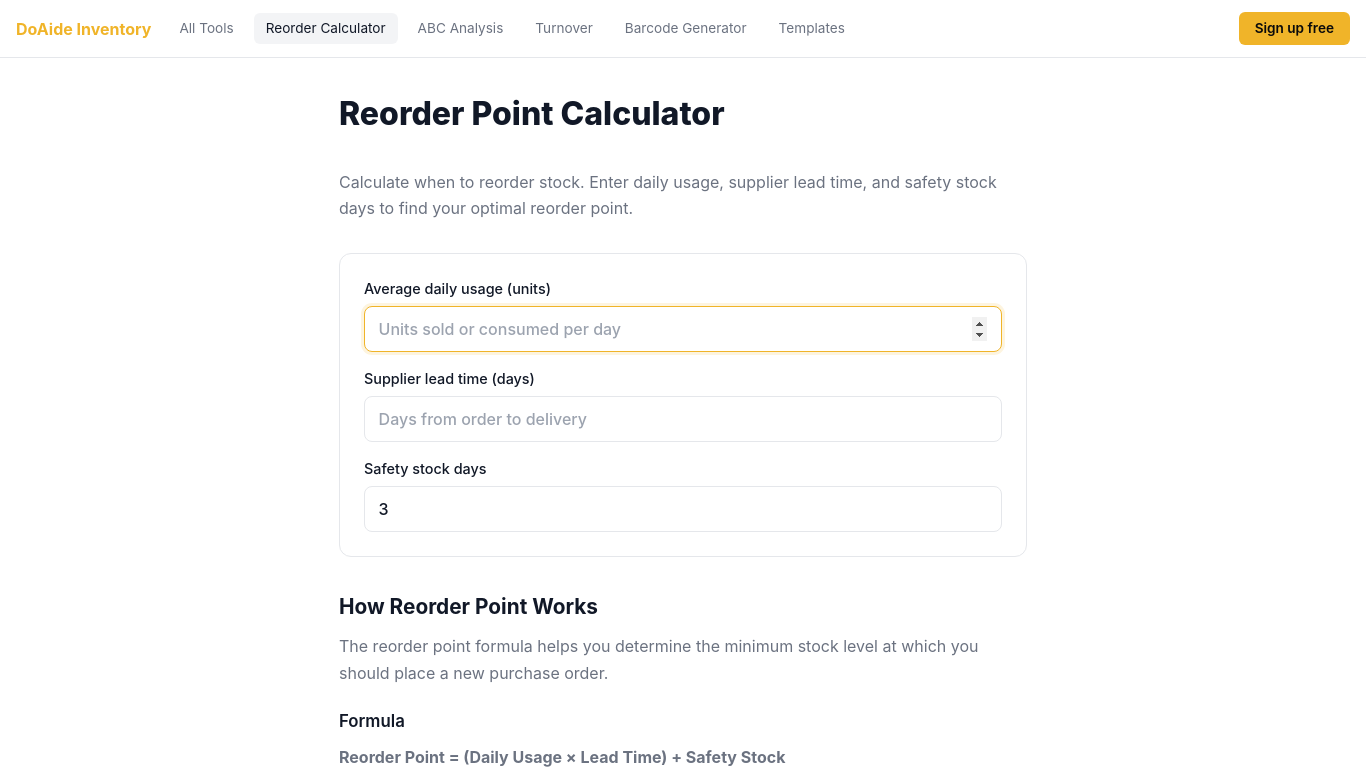
Test: CalculatorPage › shows result when inputs are filled
This screenshot has width=1366, height=768.
Type "20" into the number field with placeholder "Units sold or consumed per day" at (683, 329), box x1=364 y1=306 x2=1002 y2=352
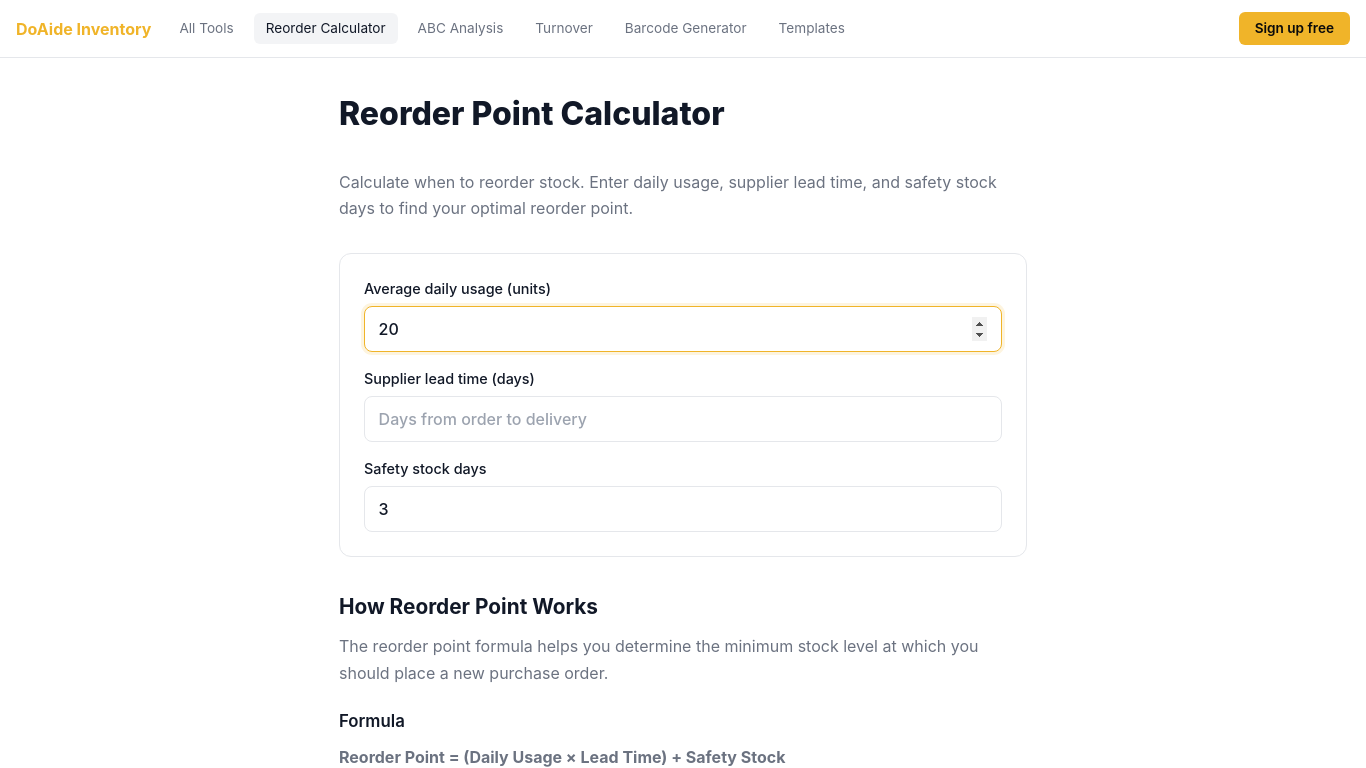
Type "5" into the number field with placeholder "Days from order to delivery" at (683, 419), box x1=364 y1=396 x2=1002 y2=442
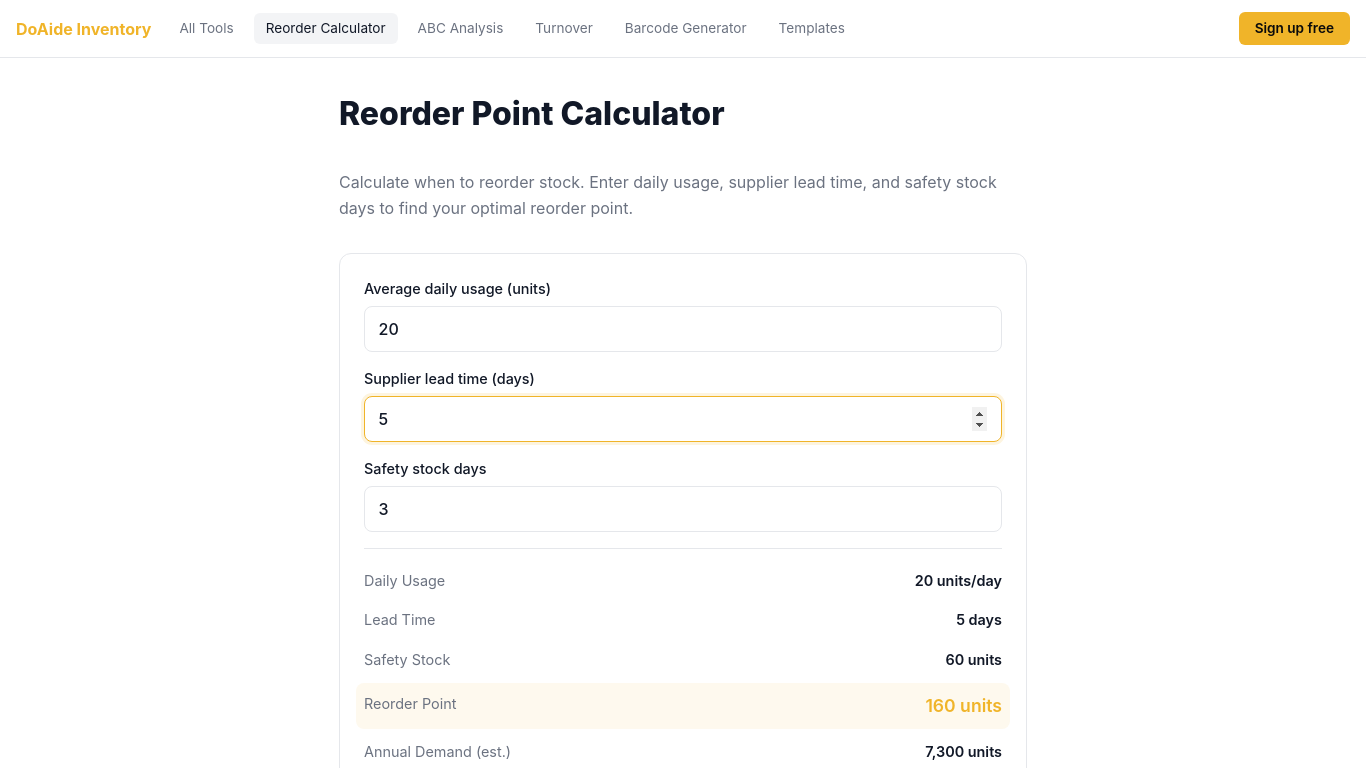
Check: the text "Reorder Point" is shown, box x1=364 y1=692 x2=456 y2=719
Check: the text "160 units" is shown, box x1=925 y1=692 x2=1002 y2=719
